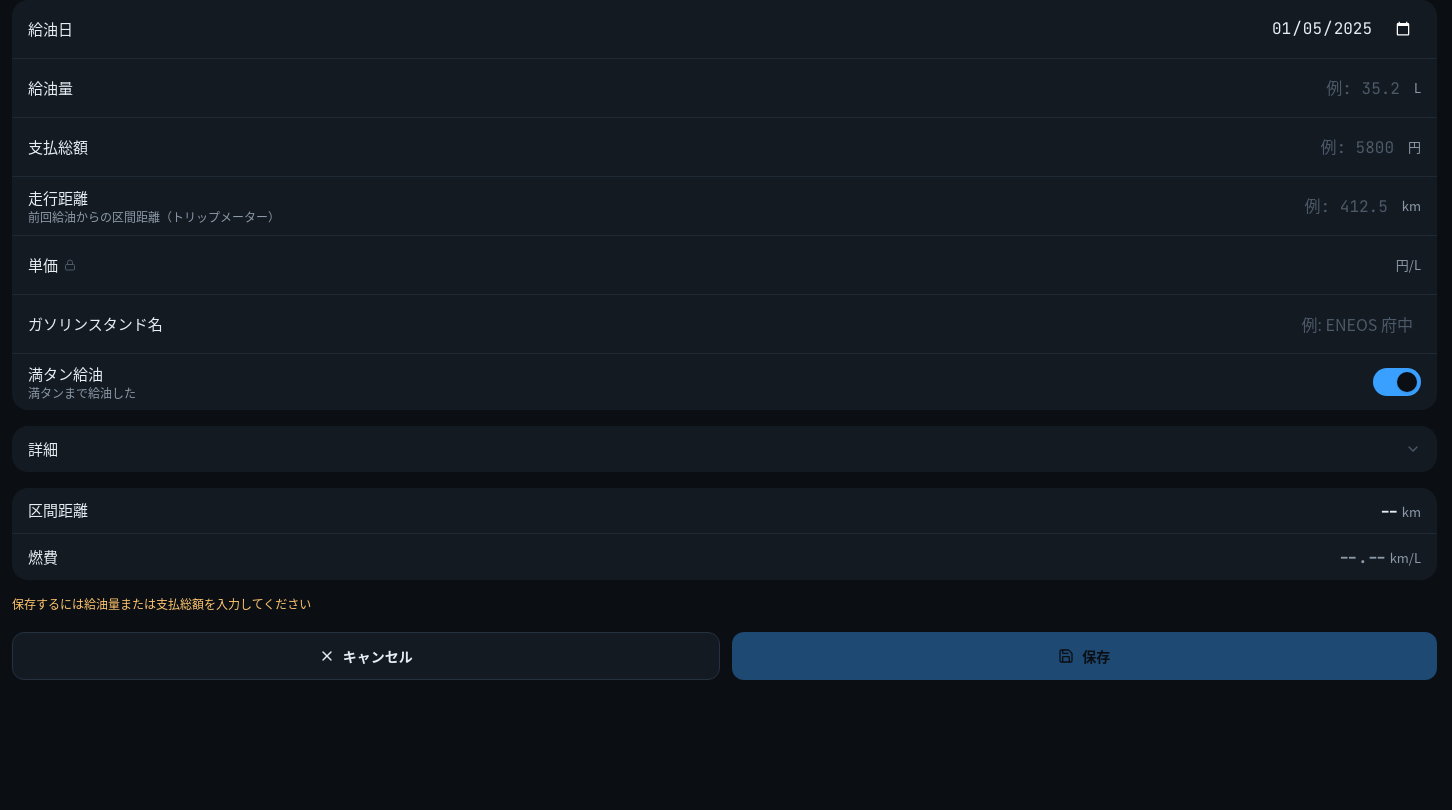
Test: EditFuelRecordForm › 給油量は小数の途中入力（4. や 4.78）を保ったまま入力できる
In the field named "給油量 (L)": (746, 88) [85, 68, 1408, 108], type "4."
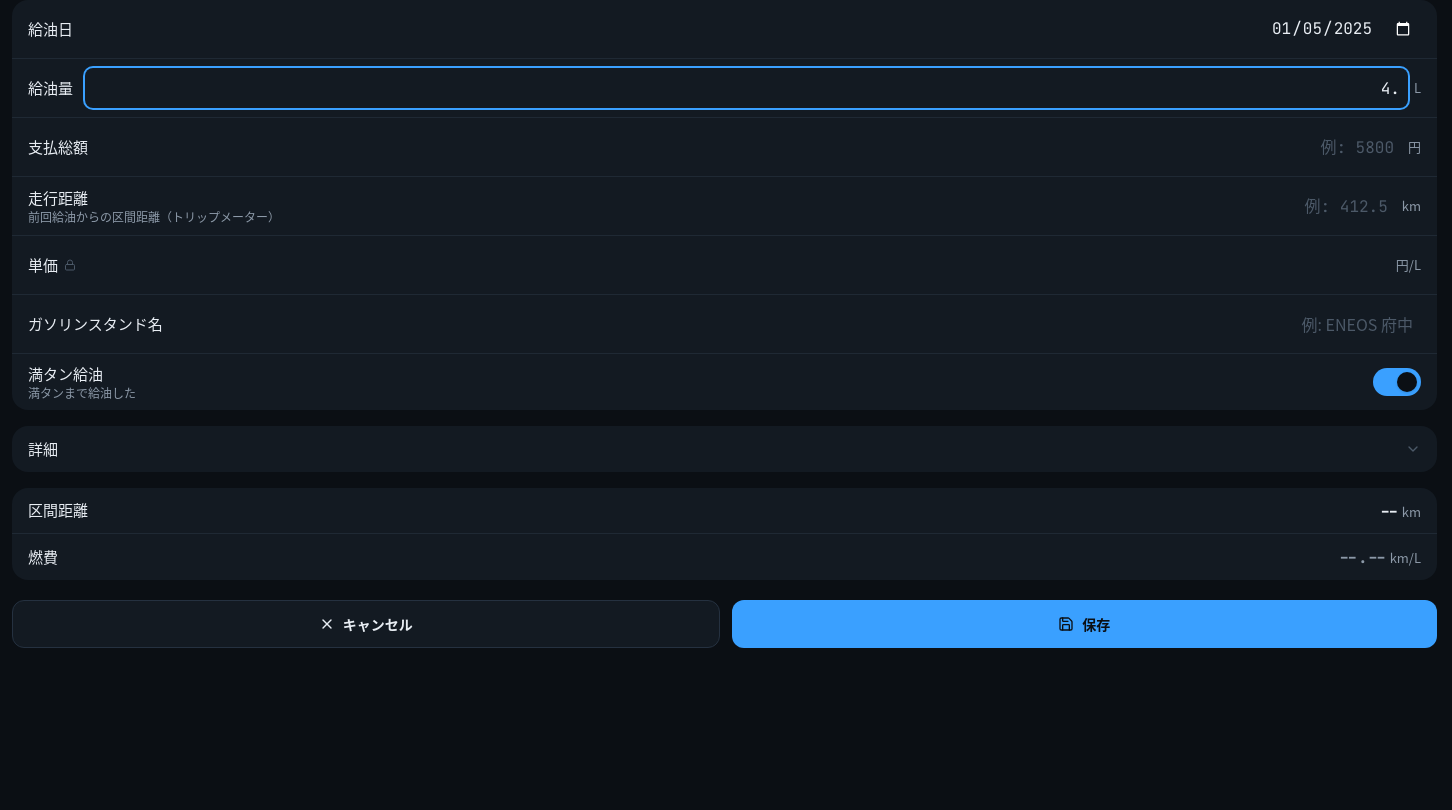
In the field named "給油量 (L)": (746, 88) [85, 68, 1408, 108], type "78"
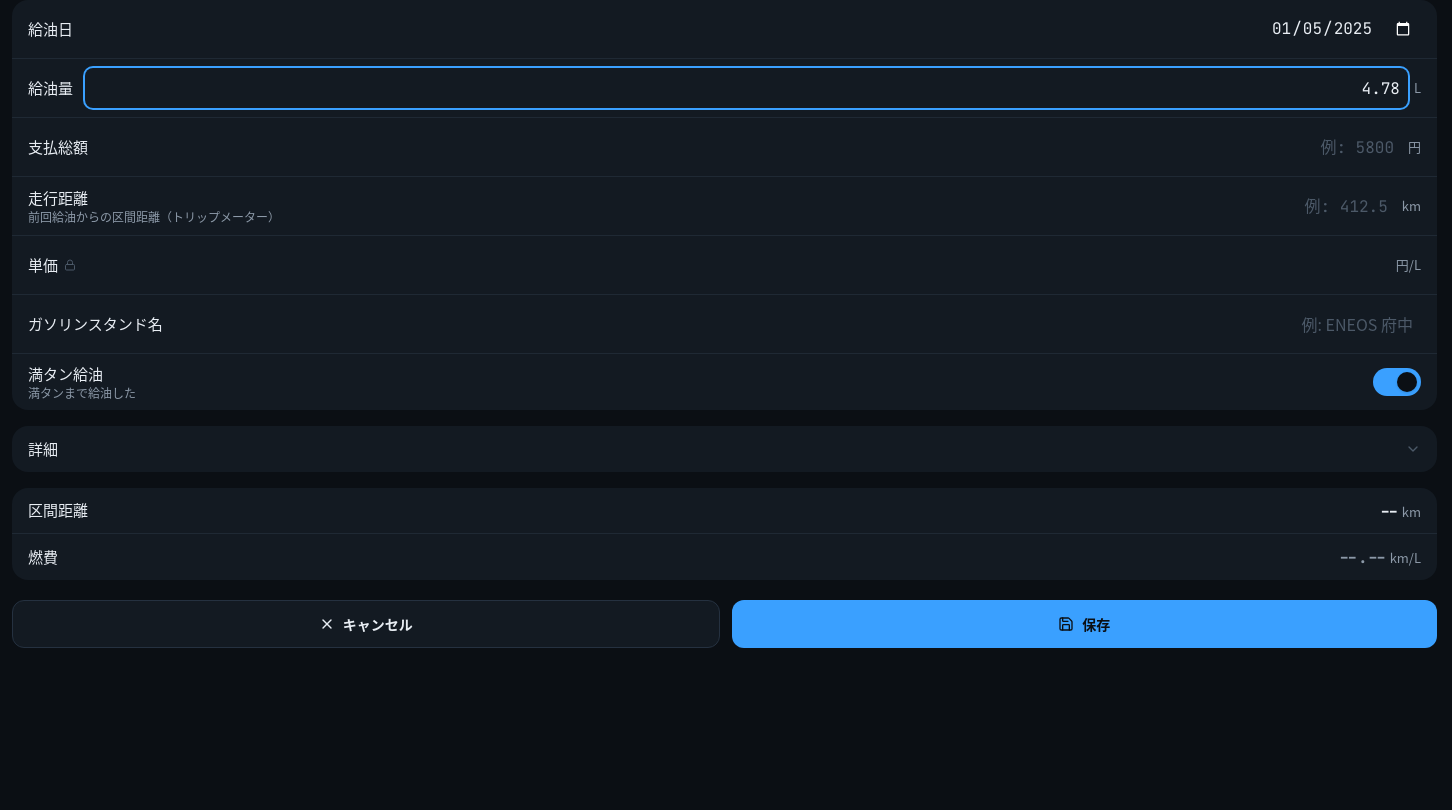
Now the field named "給油量 (L)" holds "4.78", box [85, 68, 1408, 108]
